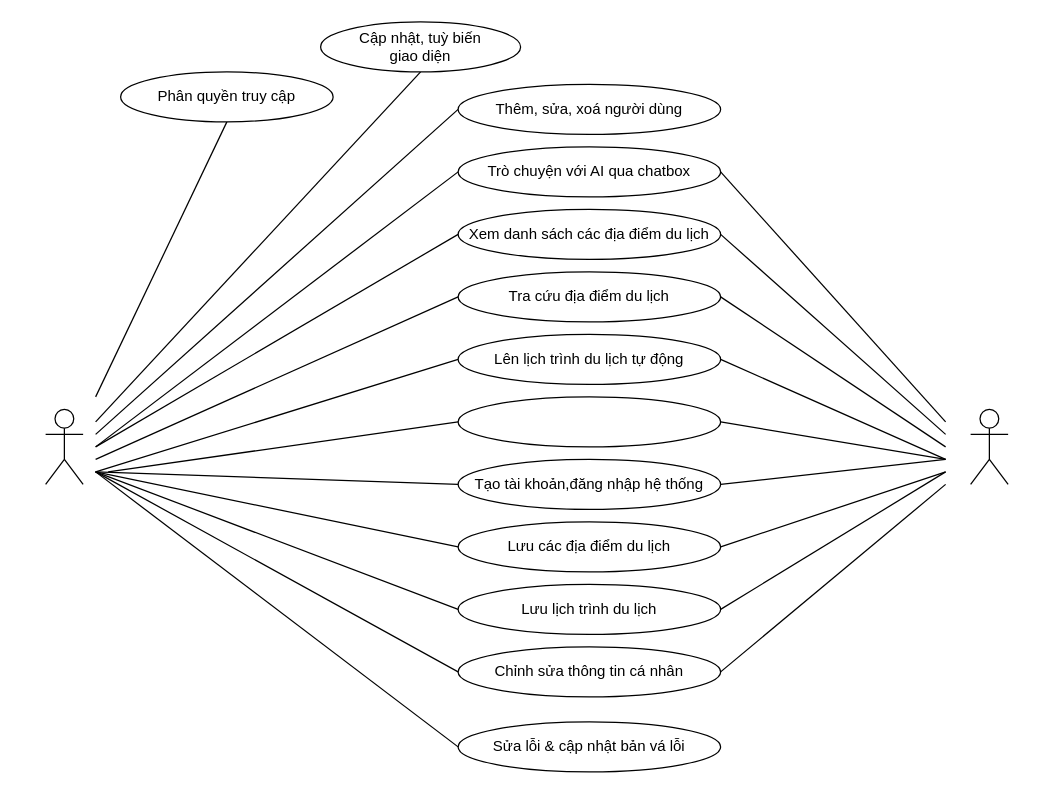
The diagram is 1050 pixels wide and 794 high, and some of its shapes have lost their labels. Each missing label, with the centre of its shape:
"Người dùng" goes at (x=988, y=446).
"Quản trị viên" goes at (x=63, y=446).
"Xem thông tin chi tiết về địa điểm du lịch" goes at (x=589, y=421).
